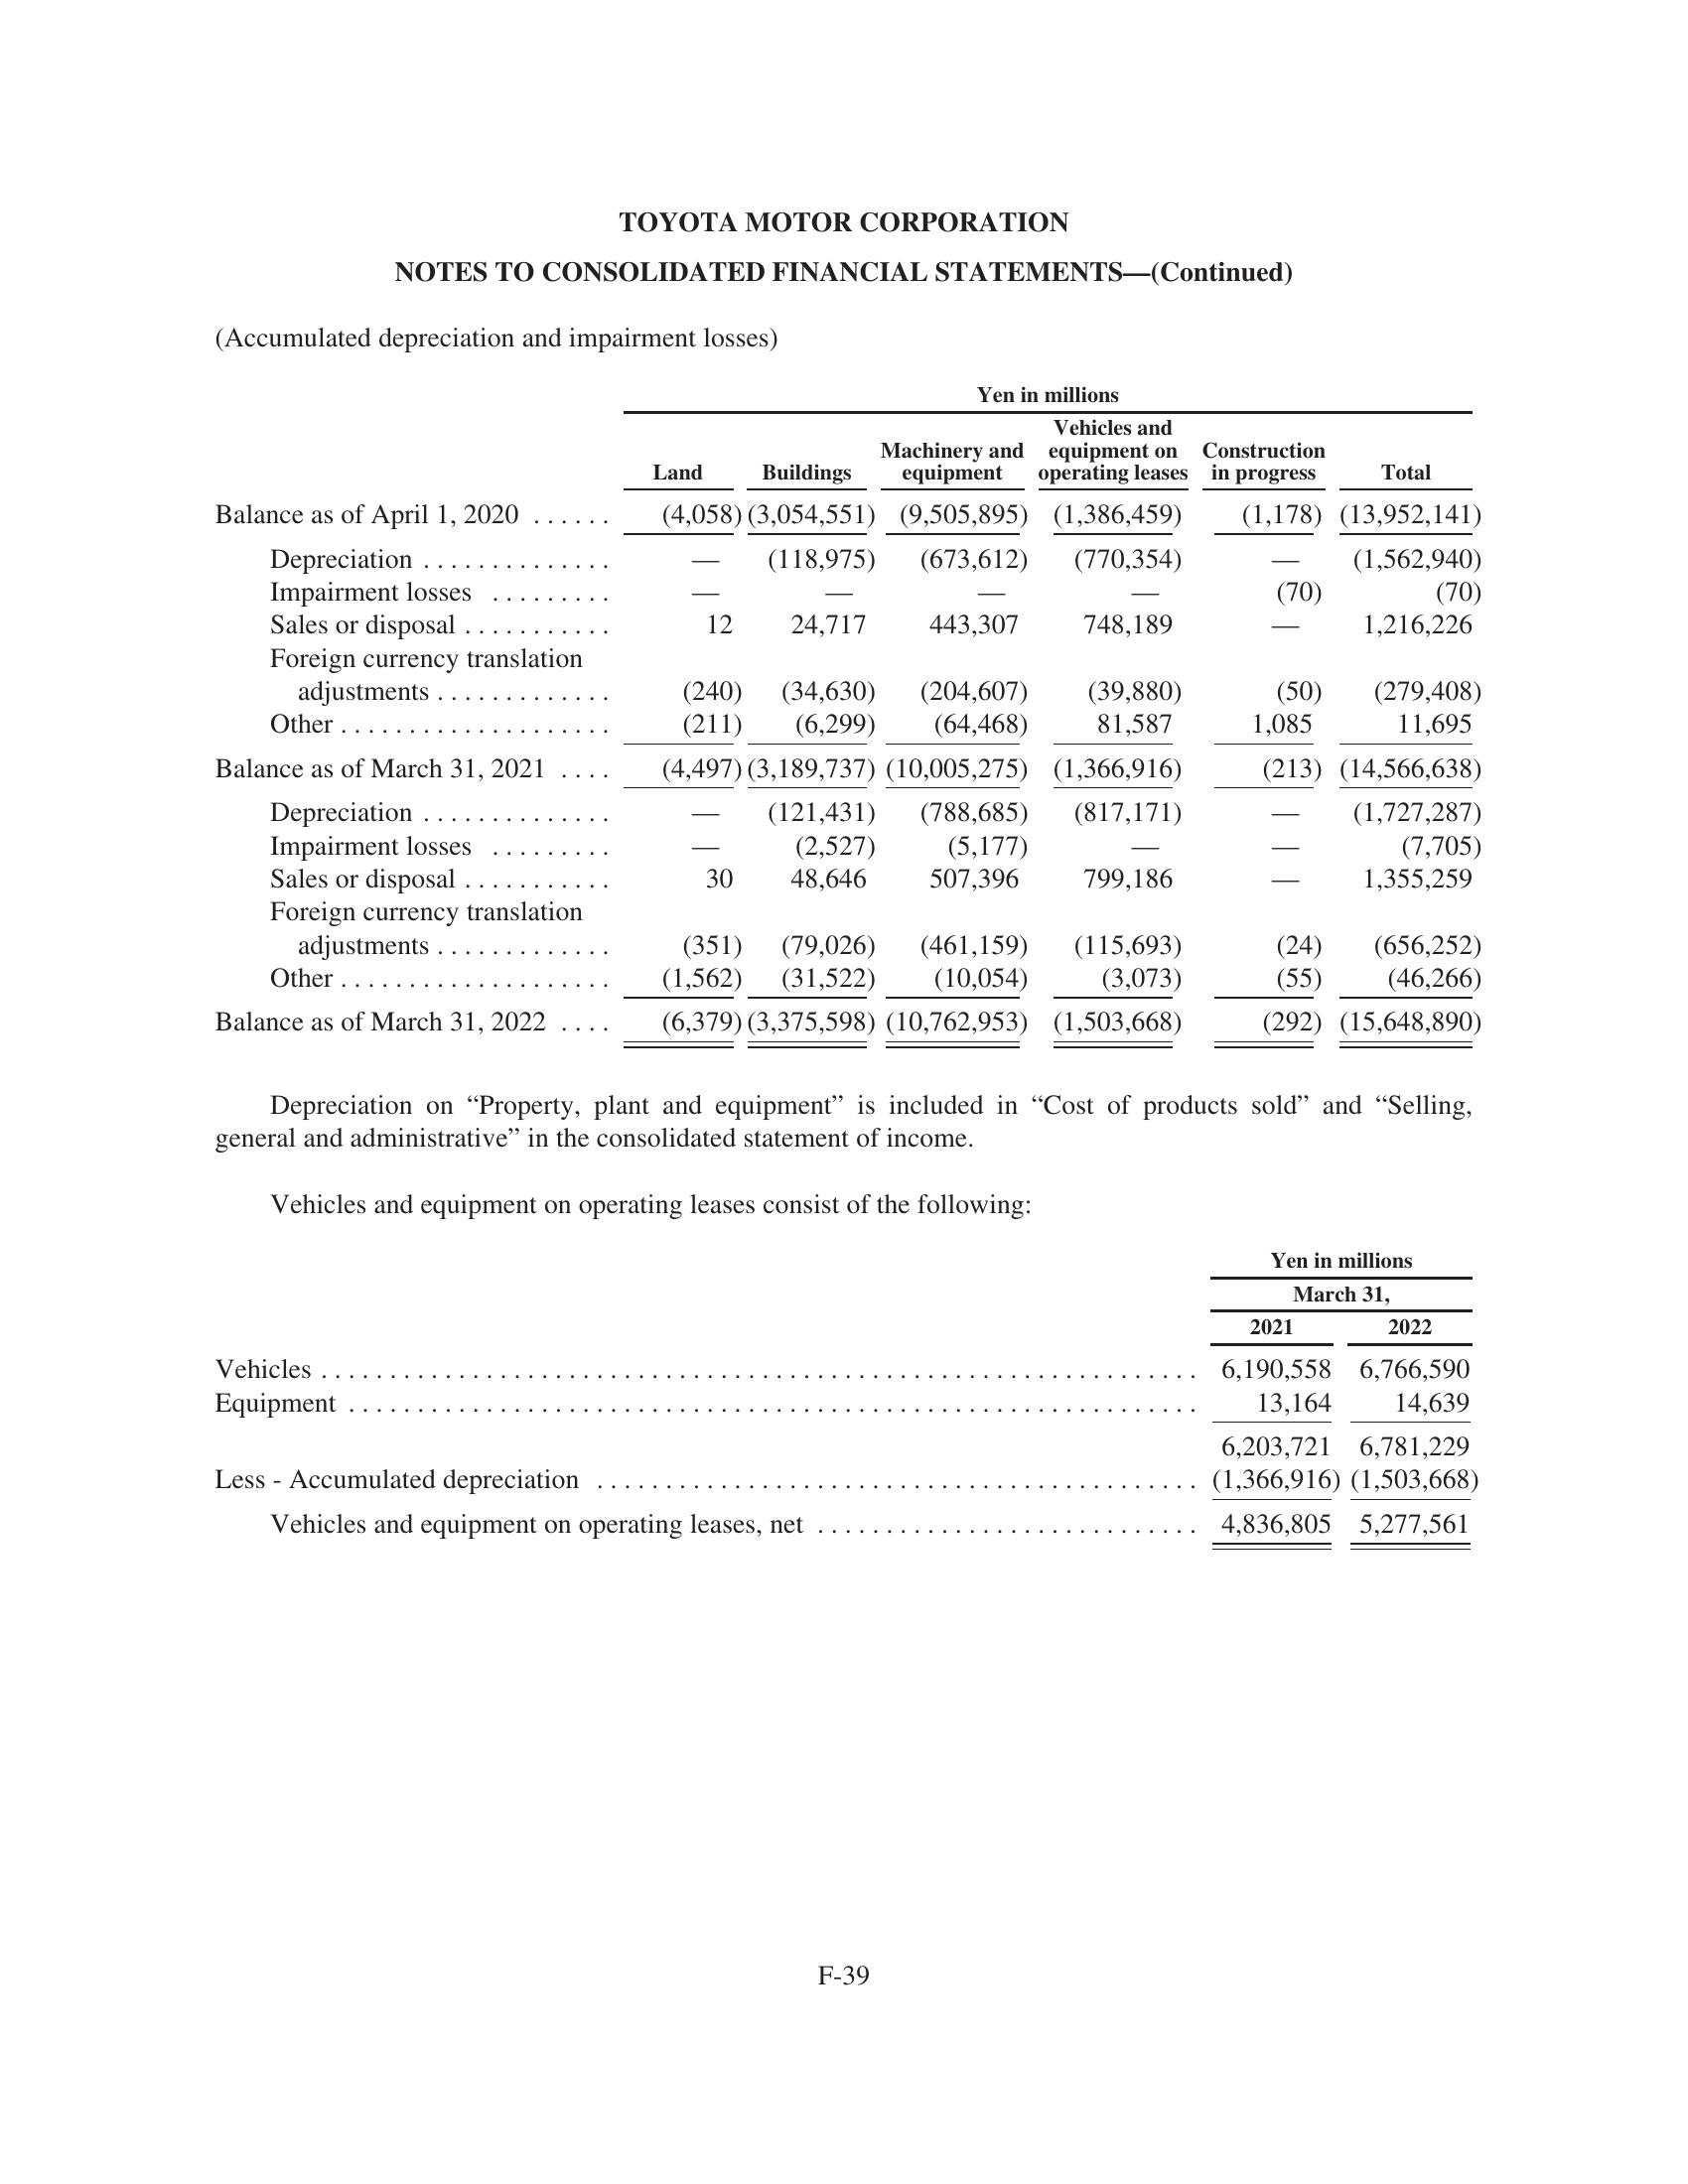Footer: (0, 1946, 1688, 2184)
Header: (0, 0, 1688, 188)
Table: (160, 362, 1521, 1072), (151, 1221, 1504, 1613)
